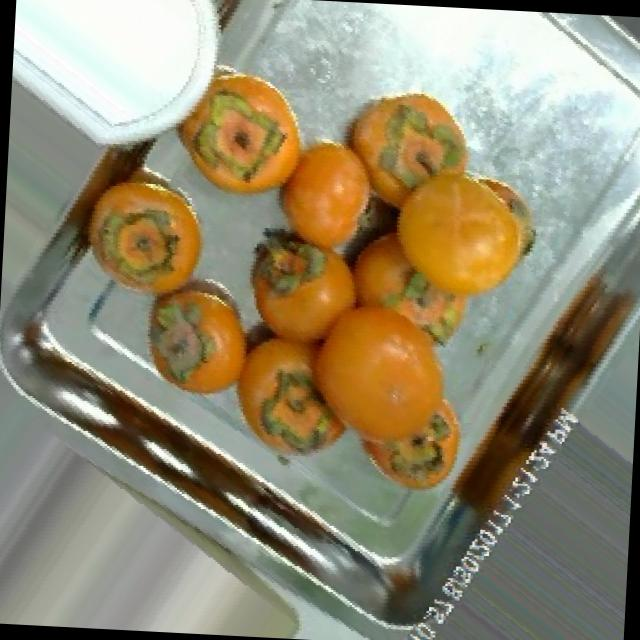Fruit: (320, 324, 489, 518), (147, 49, 323, 224), (313, 70, 497, 230)
